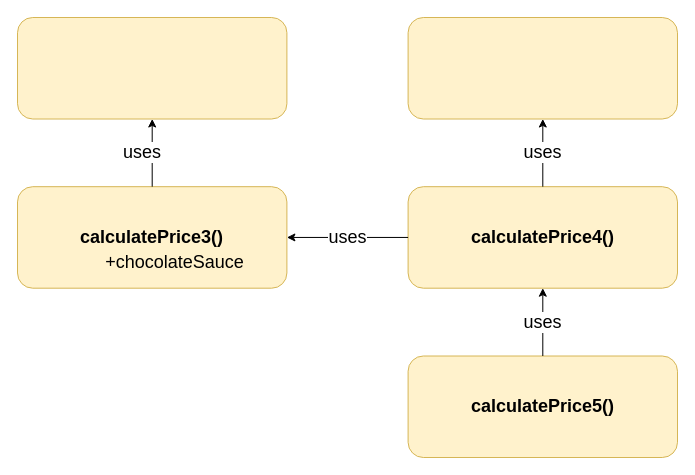
Image size: 695x475. Some labels were removed from this diagram. The centre of each missing label's shape, as x and y in pixels:
calculatePrice2(): [151,67]
handleBreakfast(): [542,67]
